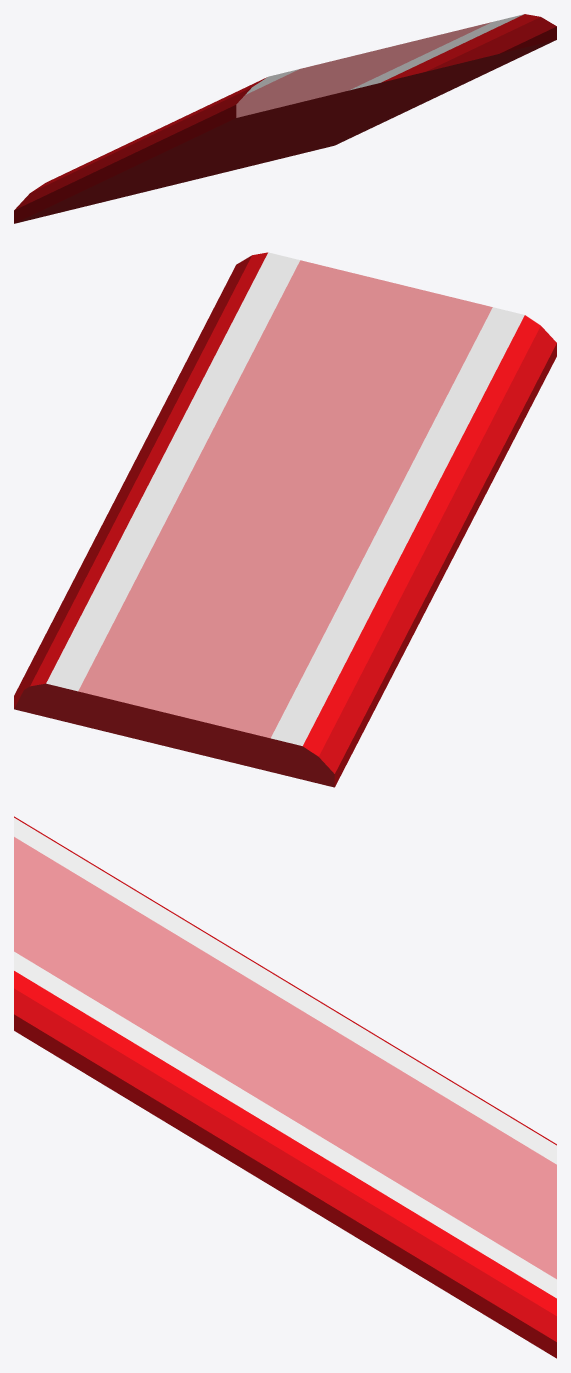
File: inc4.fbx
The picture shows the model from 3 angles, top to bottom: view 1: azimuth 30°, elevation 25°; view 2: azimuth 150°, elevation 25°; view 3: azimuth 270°, elevation 25°; orthographic projection. The views are drawn at different scales.
Parts seen in each view (by area): view 1: Incline4; view 2: Incline4; view 3: Incline4.
Boxes of the visible parts, left/top/right/bottom form: Incline4: left=14, top=14, right=556, bottom=223; Incline4: left=14, top=252, right=556, bottom=787; Incline4: left=14, top=816, right=556, bottom=1358.
Bounding box in the file's own units: 10 × 9 × 12.
